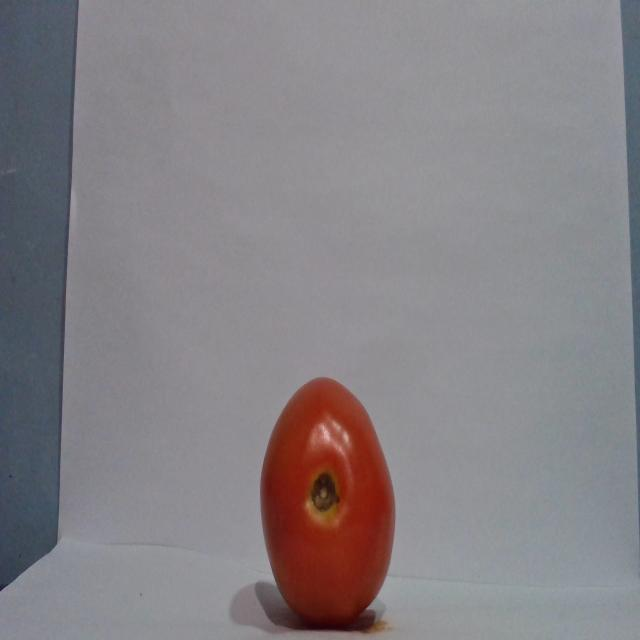Red: (258, 375, 396, 627)
